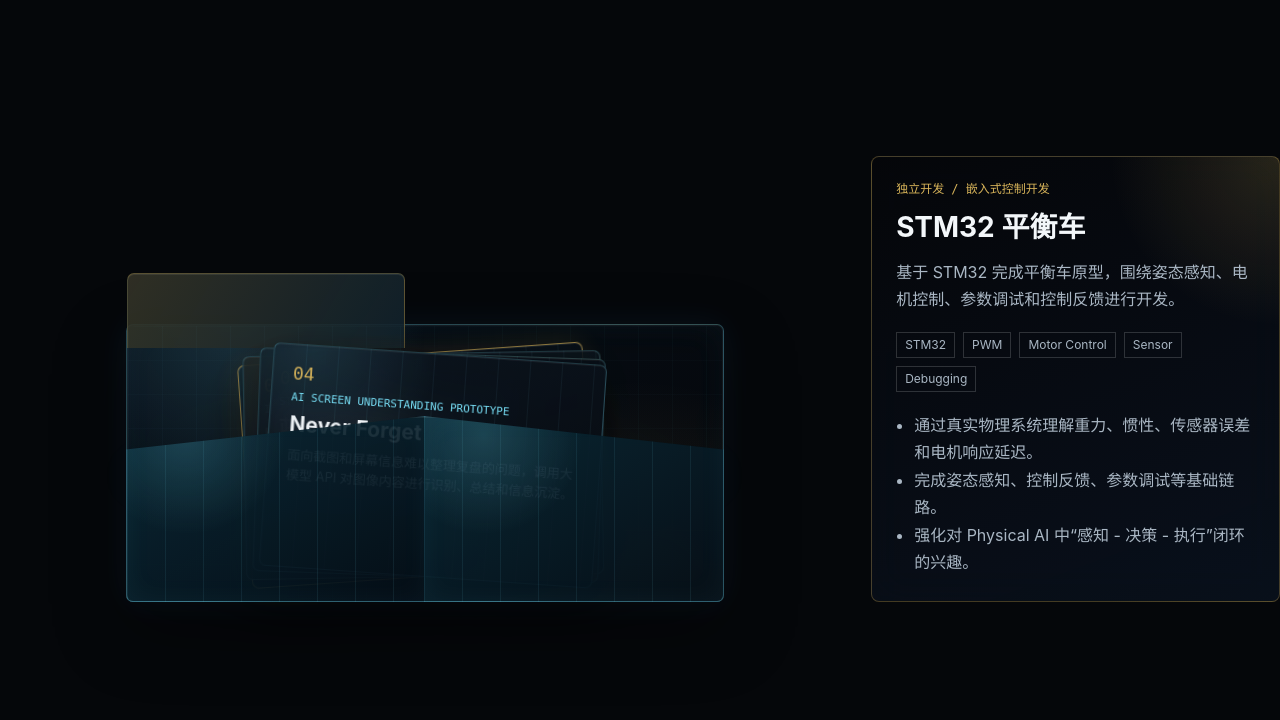
Test: ProjectFolder › toggles the project cards back into the folder when the folder is clicked again
The width and height of the screenshot is (1280, 720).
What coordinates should you click on to do the following:
click the button named "打开项目文件夹"
I would click on:
 (425, 459)
Its box is [126,316,724,602].
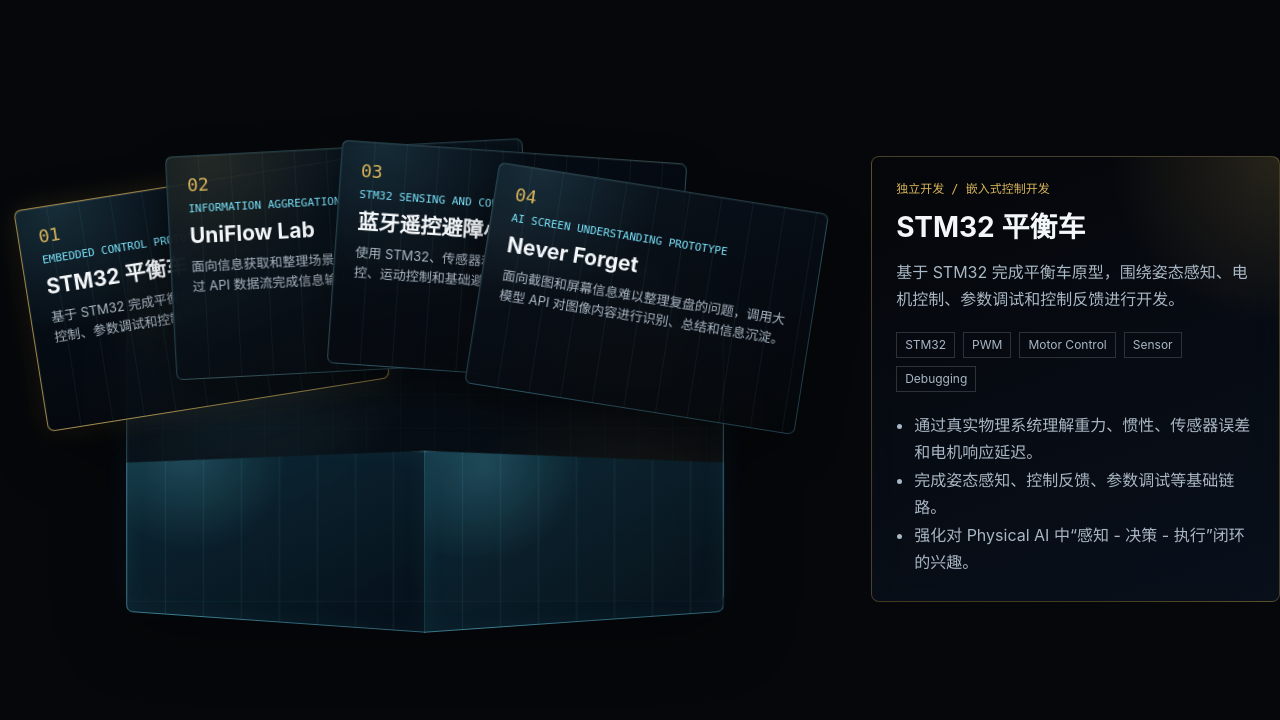
Now the button named "打开项目文件夹" is expanded
What coordinates should you click on to do the following:
click the button named "打开项目文件夹"
I would click on:
 (425, 459)
Its box is [126,316,724,602].
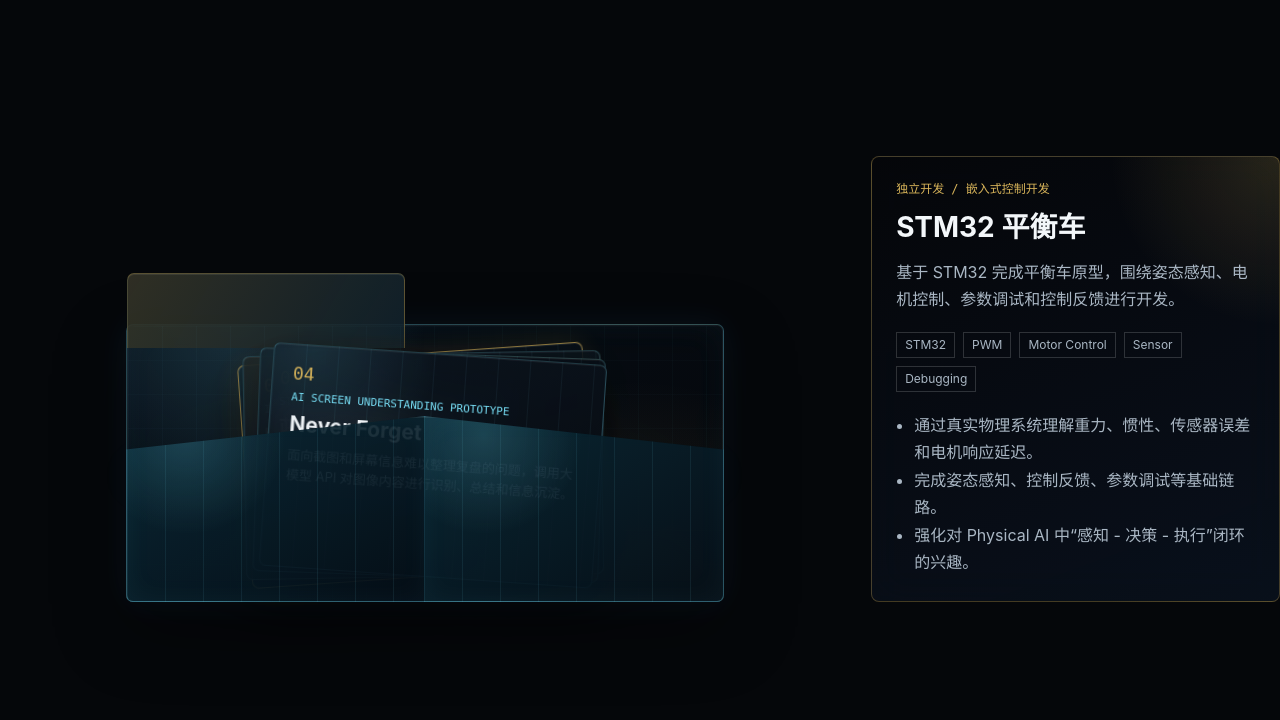
Now the button named "打开项目文件夹" is collapsed, box [126,316,724,602]
